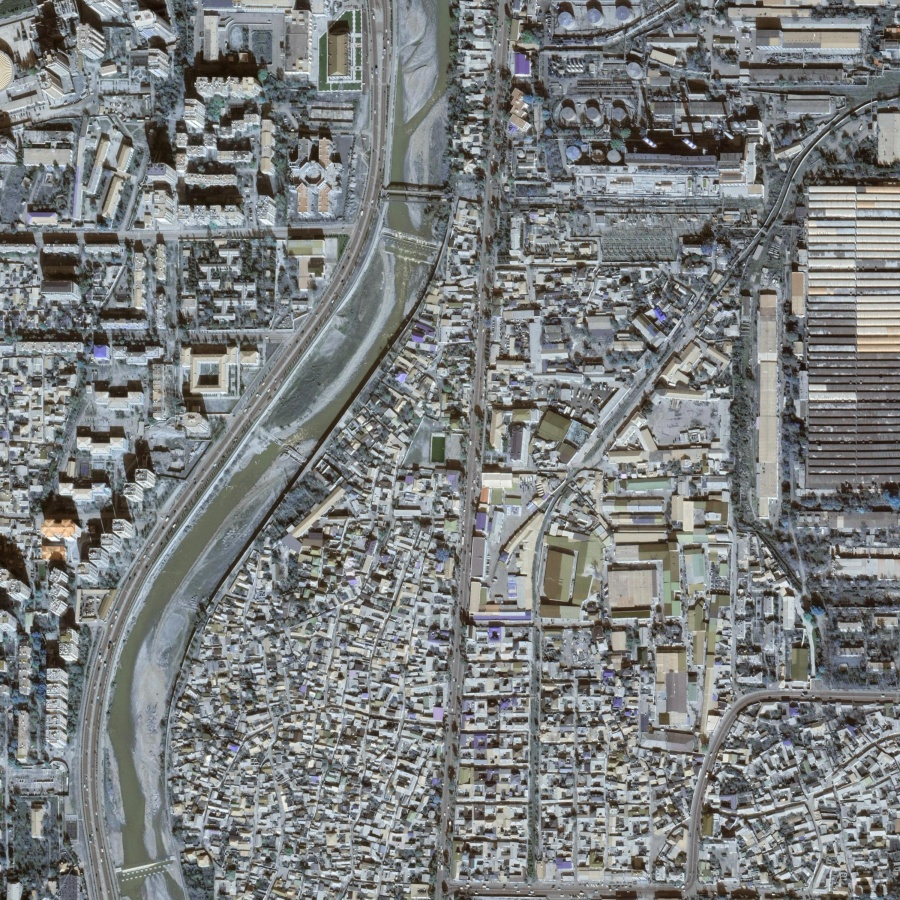PowerPlant: (548, 52, 769, 263)
